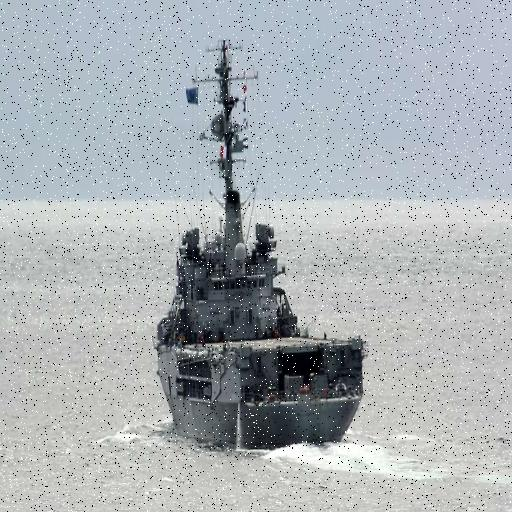Portanaves: (149, 19, 381, 452)
